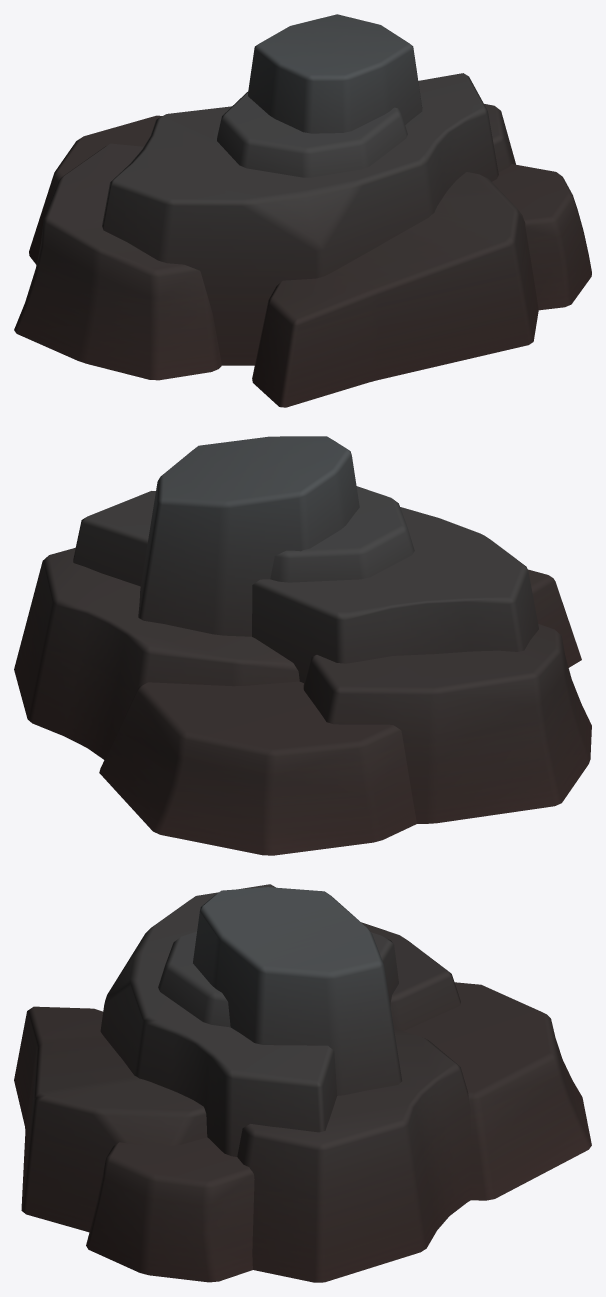
File: Cliff_005.glb
The picture shows the model from 3 angles, top to bottom: view 1: azimuth 30°, elevation 25°; view 2: azimuth 150°, elevation 25°; view 3: azimuth 270°, elevation 25°; orthographic projection. The views are drawn at different scales.
Visible parts, largest first — view 1: Cliff_005; view 2: Cliff_005; view 3: Cliff_005.
Part boxes in pixels (x1,y1,x2,y2): Cliff_005: [14, 14, 591, 407]; Cliff_005: [14, 436, 591, 855]; Cliff_005: [14, 884, 591, 1282].
Size of the model in its own units: 259 by 114 by 235.
1 material, 1 textured.
